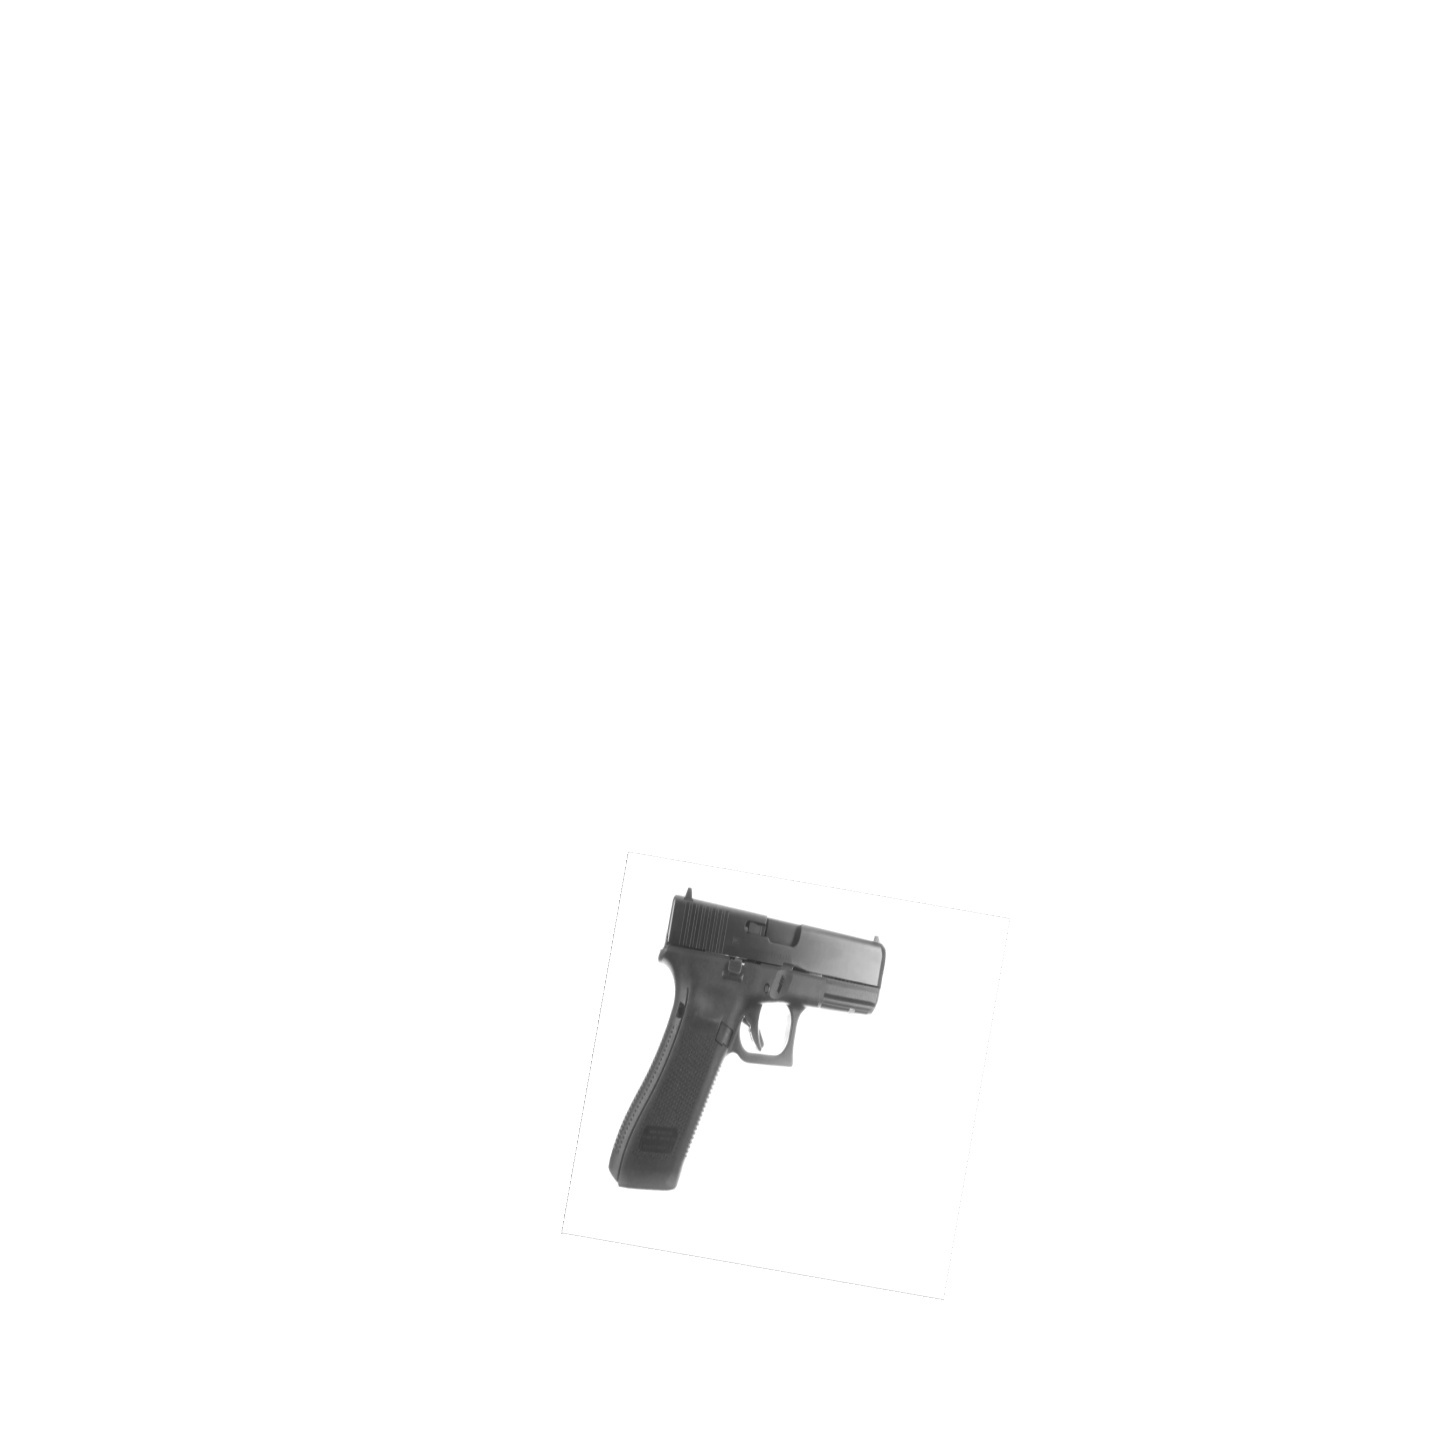gun: (604, 884, 888, 1197)
